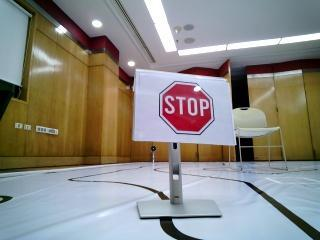stop: (137, 70, 229, 145)
